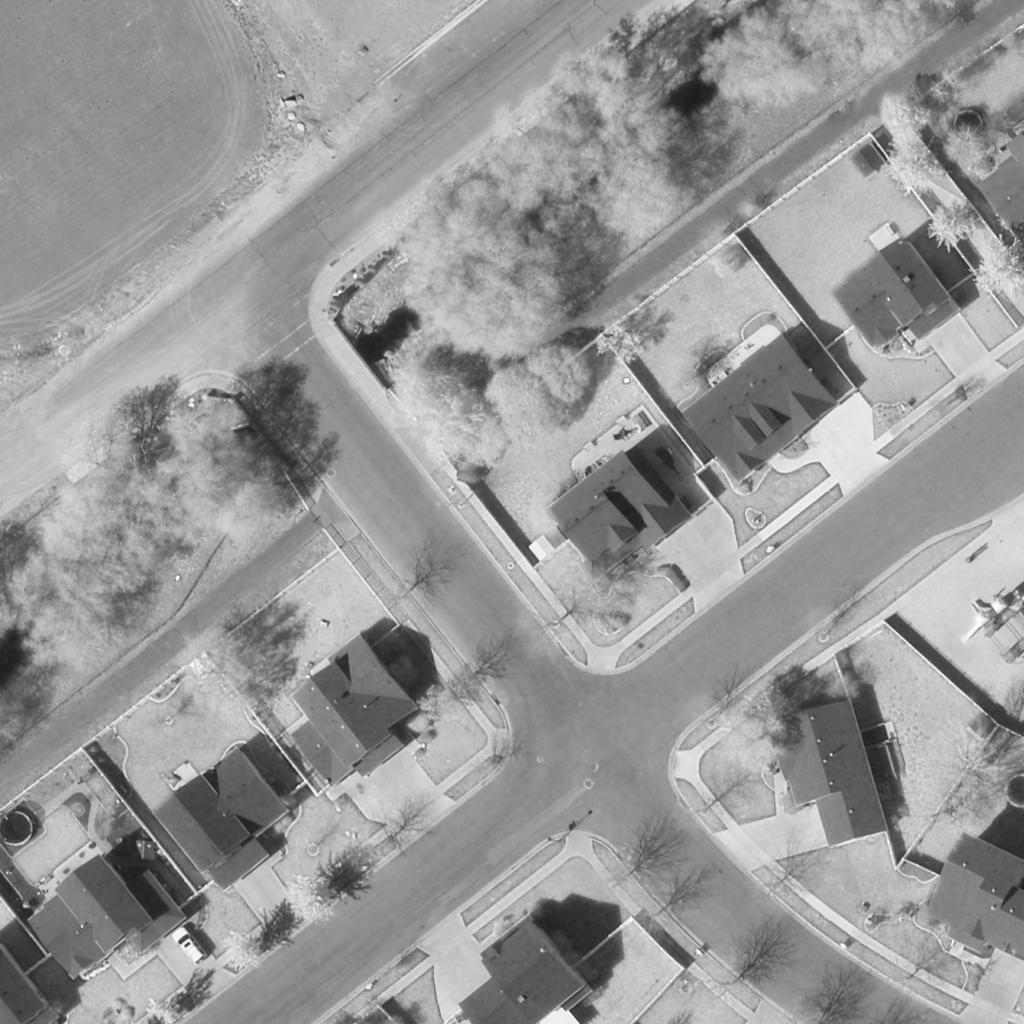vehicle: (171, 927, 209, 967)
